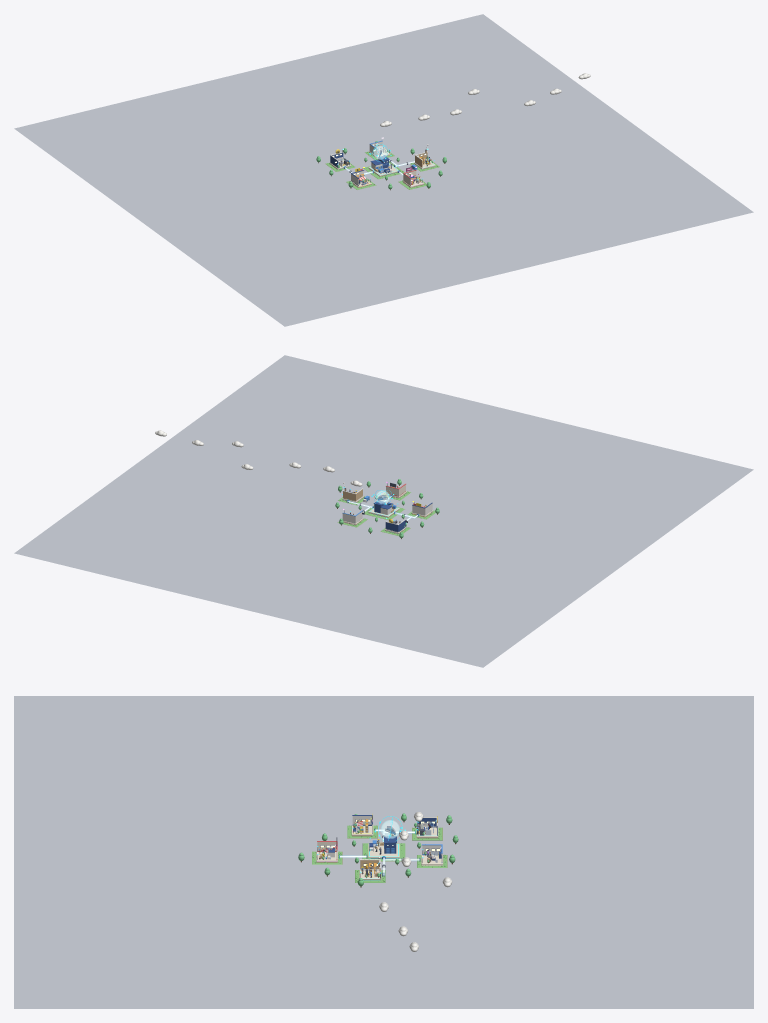
The model's file is bodestock_ciudad.glb.
3 renders of one model, top to bottom at view 1: azimuth 30°, elevation 25°; view 2: azimuth 150°, elevation 25°; view 3: azimuth 270°, elevation 25°, orthographic. The views are drawn at different scales.
Visible parts, largest first — view 1: Suelo; view 2: Suelo; view 3: Suelo.
Part boxes in pixels (box(x1,y1,x2,y2)): Suelo: box(14, 14, 753, 326); Suelo: box(14, 355, 753, 667); Suelo: box(14, 696, 753, 1008).
Size of what is drawn, in the model's own units: 150 by 11.84 by 150.
75 materials, 1 textured.
